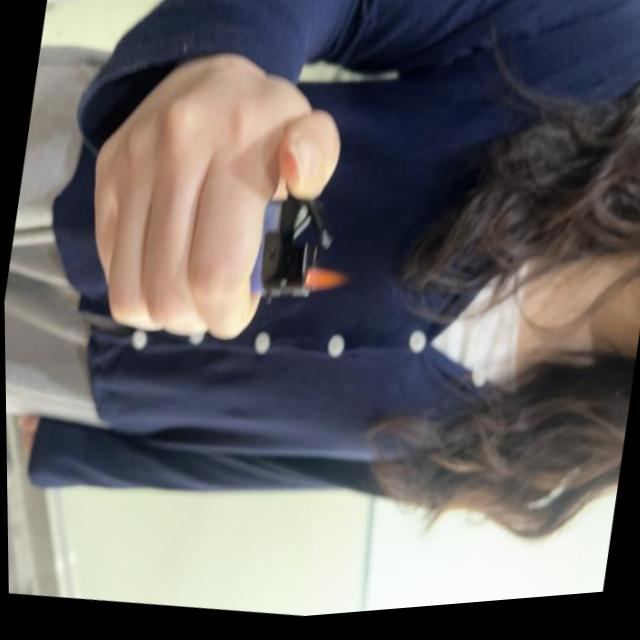Fire: (304, 265, 349, 307)
